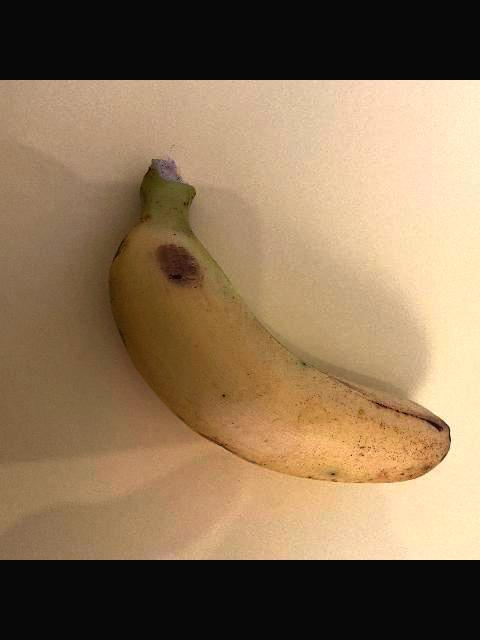banana: (105, 161, 451, 484)
